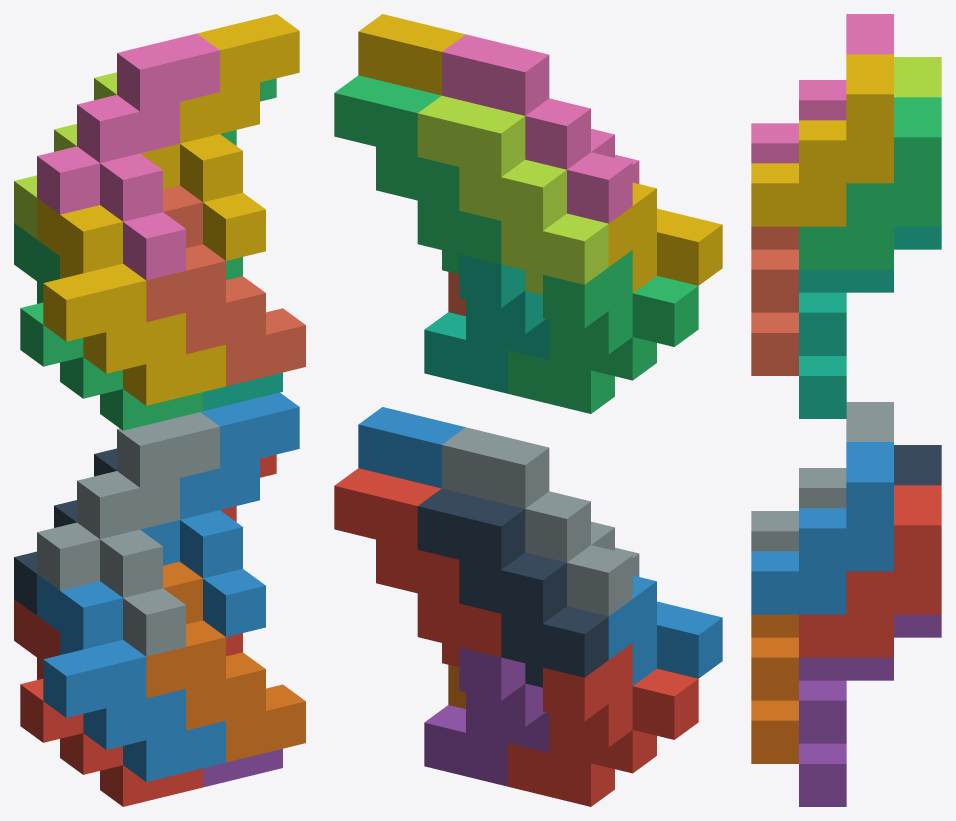
File: tiling.obj
3 renders of one model, left to right at view 1: azimuth 30°, elevation 25°; view 2: azimuth 150°, elevation 25°; view 3: azimuth 270°, elevation 25°, orthographic. The views are drawn at different scales.
Parts seen in each view (by area): view 1: copy_2_domain_4, copy_2_domain_2, copy_1_domain_2, copy_1_domain_4, copy_2_domain_8, copy_2_domain_6, copy_1_domain_6, copy_1_domain_8, copy_1_domain_1, copy_1_domain_3, copy_2_domain_1, copy_2_domain_3 (+4 smaller); view 2: copy_2_domain_1, copy_2_domain_3, copy_1_domain_1, copy_1_domain_3, copy_2_domain_2, copy_2_domain_4, copy_2_domain_5, copy_2_domain_7, copy_1_domain_5, copy_1_domain_7, copy_1_domain_2, copy_1_domain_4 (+2 smaller); view 3: copy_2_domain_6, copy_2_domain_8, copy_2_domain_5, copy_2_domain_7, copy_1_domain_5, copy_1_domain_7, copy_1_domain_6, copy_1_domain_8, copy_2_domain_4, copy_2_domain_2, copy_2_domain_1, copy_2_domain_3.
Boxes of the visible parts, x1=… form: copy_2_domain_4: x1=37, y1=33, x2=219, y2=280; copy_2_domain_2: x1=37, y1=412, x2=219, y2=656; copy_1_domain_2: x1=37, y1=574, x2=225, y2=781; copy_1_domain_4: x1=37, y1=198, x2=225, y2=405; copy_2_domain_8: x1=140, y1=14, x2=299, y2=260; copy_2_domain_6: x1=140, y1=392, x2=299, y2=636; copy_1_domain_6: x1=146, y1=561, x2=305, y2=762; copy_1_domain_8: x1=146, y1=185, x2=305, y2=386; copy_1_domain_1: x1=14, y1=599, x2=202, y2=806; copy_1_domain_3: x1=14, y1=223, x2=202, y2=430; copy_2_domain_1: x1=14, y1=448, x2=116, y2=615; copy_2_domain_3: x1=14, y1=72, x2=116, y2=239; copy_2_domain_1: x1=417, y1=488, x2=608, y2=687; copy_2_domain_3: x1=417, y1=95, x2=608, y2=294; copy_1_domain_1: x1=507, y1=643, x2=698, y2=806; copy_1_domain_3: x1=507, y1=250, x2=698, y2=413; copy_2_domain_2: x1=442, y1=427, x2=639, y2=616; copy_2_domain_4: x1=442, y1=34, x2=639, y2=223; copy_2_domain_5: x1=334, y1=468, x2=501, y2=667; copy_2_domain_7: x1=334, y1=75, x2=501, y2=274; copy_1_domain_5: x1=424, y1=647, x2=549, y2=786; copy_1_domain_7: x1=424, y1=254, x2=549, y2=393; copy_1_domain_2: x1=608, y1=575, x2=722, y2=685; copy_1_domain_4: x1=608, y1=182, x2=722, y2=292; copy_2_domain_6: x1=751, y1=442, x2=893, y2=614; copy_2_domain_8: x1=751, y1=54, x2=893, y2=226; copy_2_domain_5: x1=799, y1=485, x2=941, y2=657; copy_2_domain_7: x1=799, y1=97, x2=941, y2=269; copy_1_domain_5: x1=799, y1=614, x2=941, y2=806; copy_1_domain_7: x1=799, y1=226, x2=941, y2=418; copy_1_domain_6: x1=751, y1=614, x2=798, y2=763; copy_1_domain_8: x1=751, y1=226, x2=798, y2=375; copy_2_domain_4: x1=751, y1=14, x2=893, y2=163; copy_2_domain_2: x1=751, y1=402, x2=893, y2=551; copy_2_domain_1: x1=894, y1=445, x2=941, y2=485; copy_2_domain_3: x1=894, y1=57, x2=941, y2=97.
Bounding box in the file's own units: 7 × 17 × 4.
